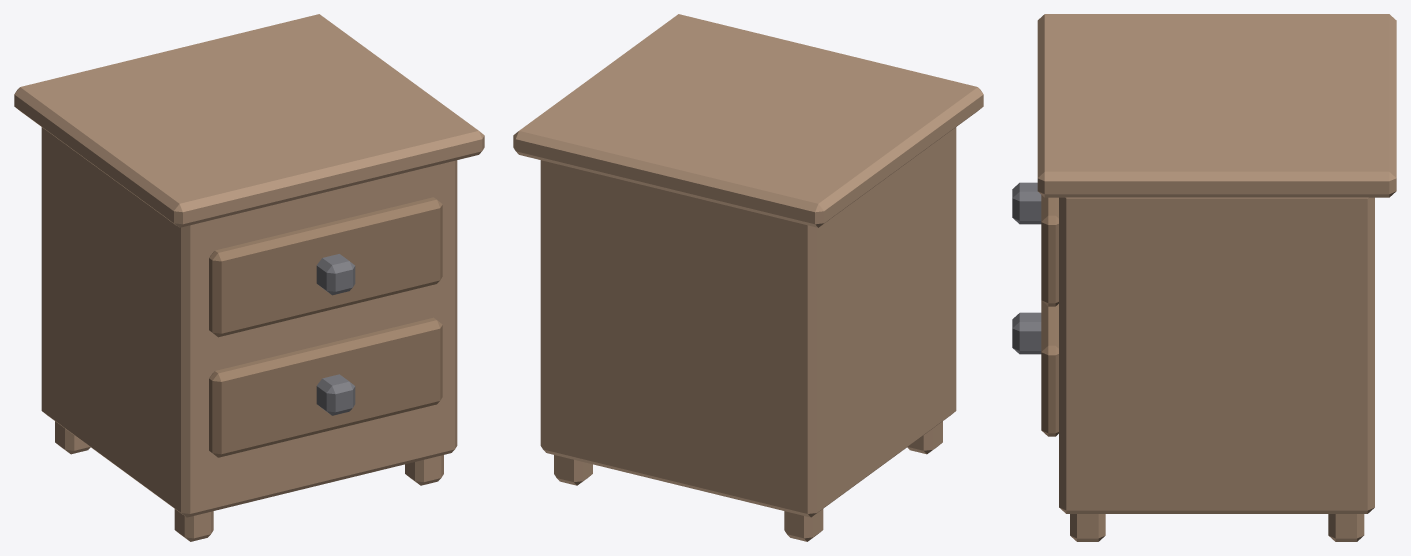
Rendered from SM_Nightstand_01.fbx.
The picture shows the model from 3 angles, left to right: view 1: azimuth 30°, elevation 25°; view 2: azimuth 150°, elevation 25°; view 3: azimuth 270°, elevation 25°; orthographic projection. The views are drawn at different scales.
Parts seen in each view (by area): view 1: Nightstand_01; view 2: Nightstand_01; view 3: Nightstand_01.
Part boxes in pixels (x1,y1,x2,y2): Nightstand_01: [14, 14, 484, 541]; Nightstand_01: [513, 14, 983, 541]; Nightstand_01: [1012, 14, 1396, 541].
Size of the model in its own units: 54 by 59 by 53.5.
